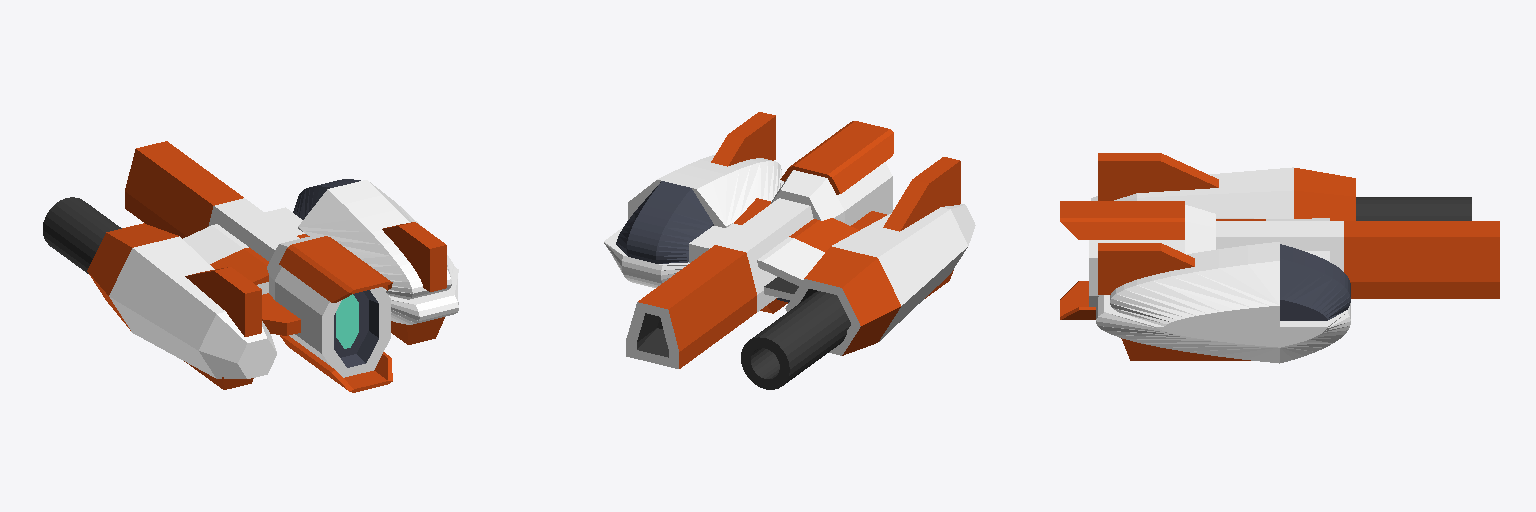
Rendered from GeminiCannon.obj.
The picture shows the model from 3 angles: view 1: azimuth 30°, elevation 25°; view 2: azimuth 150°, elevation 25°; view 3: azimuth 270°, elevation 25°; orthographic projection.
Visible parts, largest first — view 1: engine_airplane%_27, engine_high_4, engine_barrelTop_0, glass_curved_20, cylinder_hollow_28, engine_corner_2, plane_rudder_35, plane_rudder_22, glass_curved_19, wing_endLong_13, landing_float%_25, glass_curved_6; view 2: engine_barrelTop_0, engine_airplane%_27, engine_high_4, cylinder_hollow_28, glass_curved_6, glass_curved_20, engine_corner_2, plane_rudder_35, plane_rudder_22, glass_curved_7; view 3: engine_barrelTop_0, glass_curved_20, engine_high_4, engine_airplane%_27, glass_curved_19, glass_curved_6, plane_rudder_35, plane_rudder_22, cylinder_hollow_28, glass_curved_7, landing_float%_25.
Boxes of the visible parts, box(x1,y1,x2,y2) form: engine_airplane%_27: box(87, 223, 276, 378); engine_high_4: box(267, 236, 392, 392); engine_barrelTop_0: box(125, 141, 299, 261); glass_curved_20: box(298, 180, 453, 299); cylinder_hollow_28: box(43, 197, 121, 273); engine_corner_2: box(183, 207, 309, 294); plane_rudder_35: box(185, 267, 261, 336); plane_rudder_22: box(382, 222, 446, 291); glass_curved_19: box(389, 266, 458, 324); wing_endLong_13: box(262, 293, 300, 335); landing_float%_25: box(391, 317, 444, 344); glass_curved_6: box(293, 179, 360, 219); engine_barrelTop_0: box(626, 198, 813, 368); engine_airplane%_27: box(785, 204, 975, 355); engine_high_4: box(771, 121, 893, 225); cylinder_hollow_28: box(741, 291, 850, 389); glass_curved_6: box(616, 181, 713, 263); glass_curved_20: box(628, 154, 781, 227); engine_corner_2: box(689, 198, 859, 299); plane_rudder_35: box(883, 157, 960, 231); plane_rudder_22: box(711, 112, 775, 166); glass_curved_7: box(604, 228, 689, 287); engine_barrelTop_0: box(1216, 221, 1499, 298); glass_curved_20: box(1110, 242, 1279, 326); engine_high_4: box(1060, 201, 1215, 319); engine_airplane%_27: box(1091, 167, 1355, 220); glass_curved_19: box(1096, 295, 1279, 363); glass_curved_6: box(1280, 244, 1350, 320); plane_rudder_35: box(1098, 153, 1218, 200); plane_rudder_22: box(1098, 243, 1194, 294); cylinder_hollow_28: box(1356, 197, 1471, 220); glass_curved_7: box(1280, 303, 1350, 362); landing_float%_25: box(1121, 338, 1250, 360).
Size of the model in its own units: 2.29 by 0.832 by 3.1.